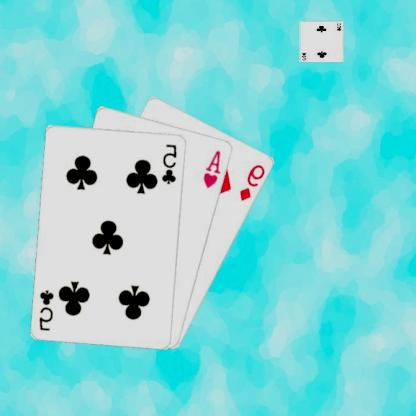5C: (160, 141, 180, 185), (39, 286, 57, 332)
9D: (238, 162, 269, 202)
AH: (203, 148, 224, 190)
